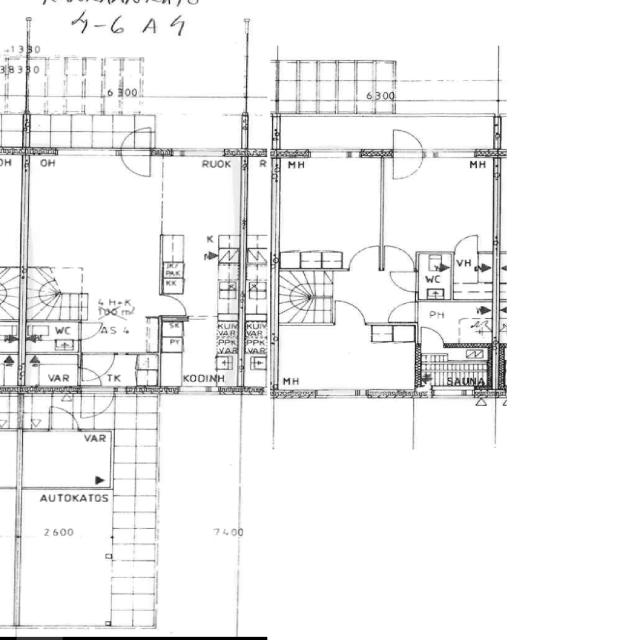door: (388, 128, 426, 184), (117, 128, 154, 182), (378, 242, 418, 274), (79, 352, 117, 382), (345, 244, 382, 274), (330, 298, 368, 327), (84, 387, 116, 416), (386, 269, 421, 295), (384, 300, 420, 325), (47, 405, 79, 433), (156, 293, 190, 319), (415, 324, 446, 349), (450, 232, 482, 256), (75, 319, 105, 341), (75, 365, 103, 386)
window: (48, 145, 119, 160), (426, 147, 484, 164), (306, 147, 363, 163), (310, 387, 364, 402), (175, 147, 226, 161)
zone: (20, 151, 165, 319), (156, 154, 242, 322), (273, 154, 384, 270), (380, 155, 497, 255), (270, 322, 418, 393), (157, 318, 241, 390), (18, 431, 114, 490), (414, 300, 496, 347), (416, 344, 492, 394), (238, 311, 271, 385), (24, 353, 80, 391), (452, 250, 496, 298), (25, 319, 81, 355), (415, 250, 452, 301), (1, 394, 20, 429)
